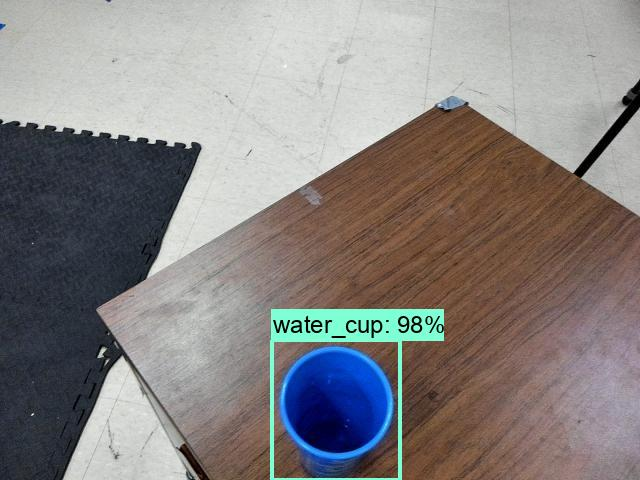water_cup: (275, 343, 397, 480)
